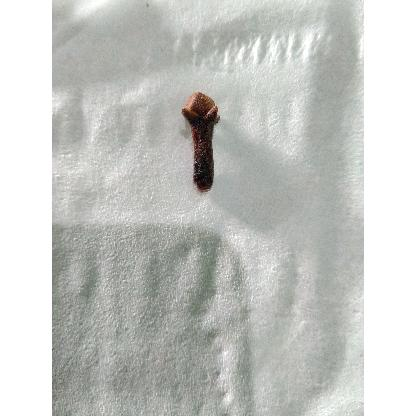baik: (182, 92, 220, 193)
